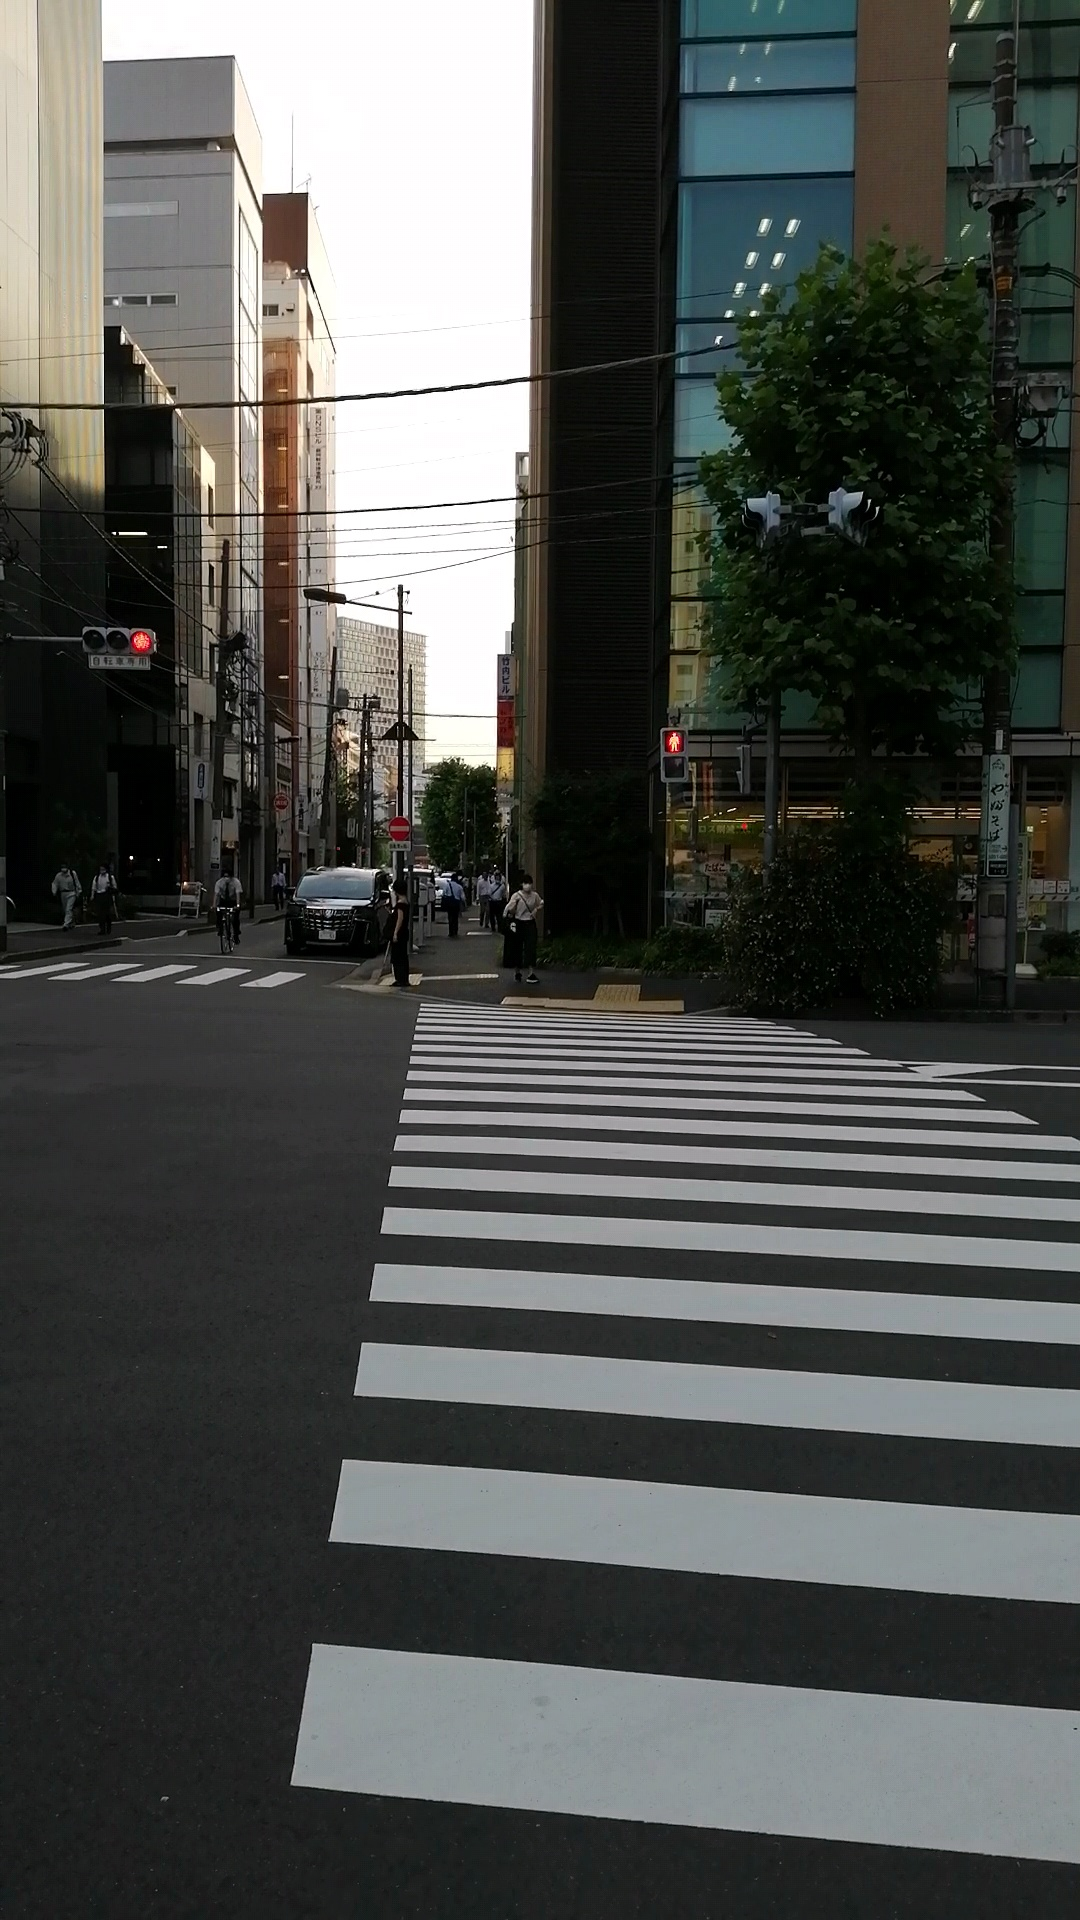red: (658, 724, 690, 782)
